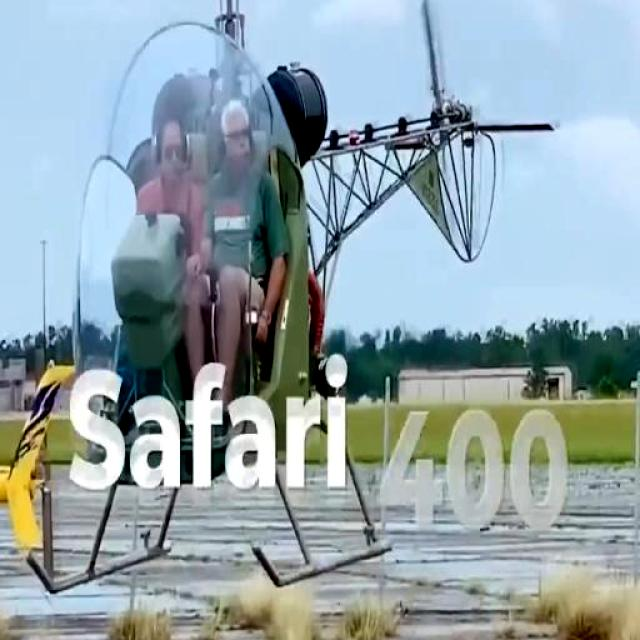drone: (0, 0, 640, 369)
